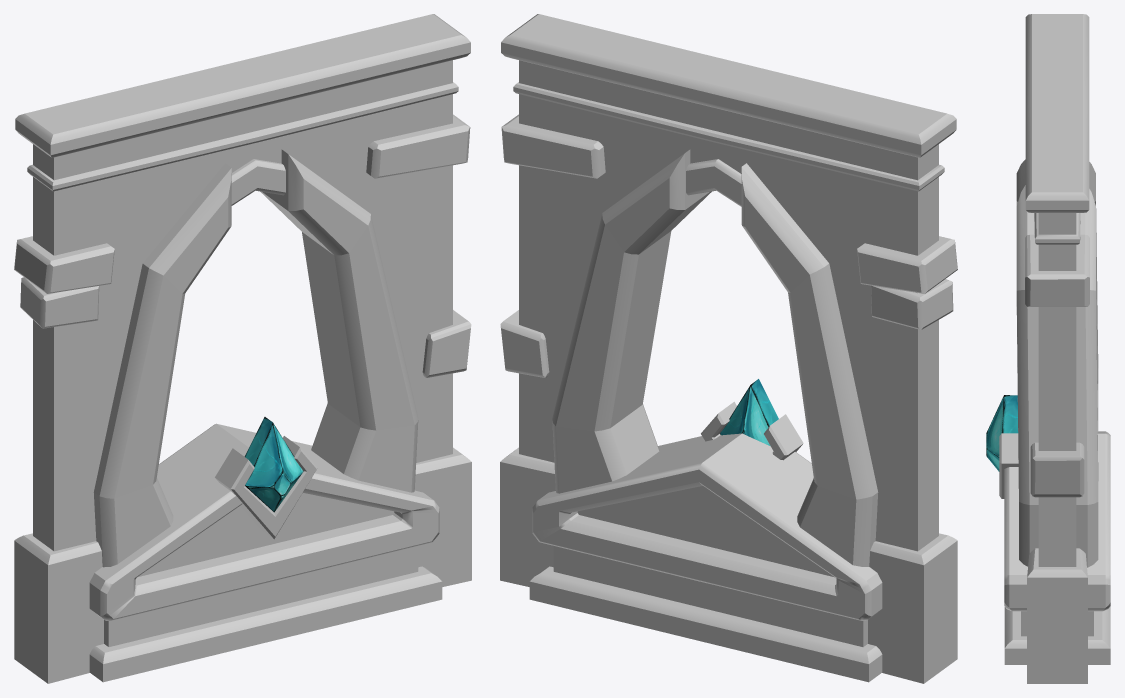
The model's file is Moonset_FBX_window_02.fbx.
The picture shows the model from 3 angles, left to right: view 1: azimuth 30°, elevation 25°; view 2: azimuth 150°, elevation 25°; view 3: azimuth 270°, elevation 25°; orthographic projection. The views are drawn at different scales.
Parts seen in each view (by area): view 1: Window_2; view 2: Window_2; view 3: Window_2.
Boxes of the visible parts, left/top/right/bottom form: Window_2: left=14, top=14, right=471, bottom=683; Window_2: left=500, top=14, right=957, bottom=683; Window_2: left=986, top=14, right=1110, bottom=683.
Size of the model in its own units: 6.76 by 8.22 by 1.9.
